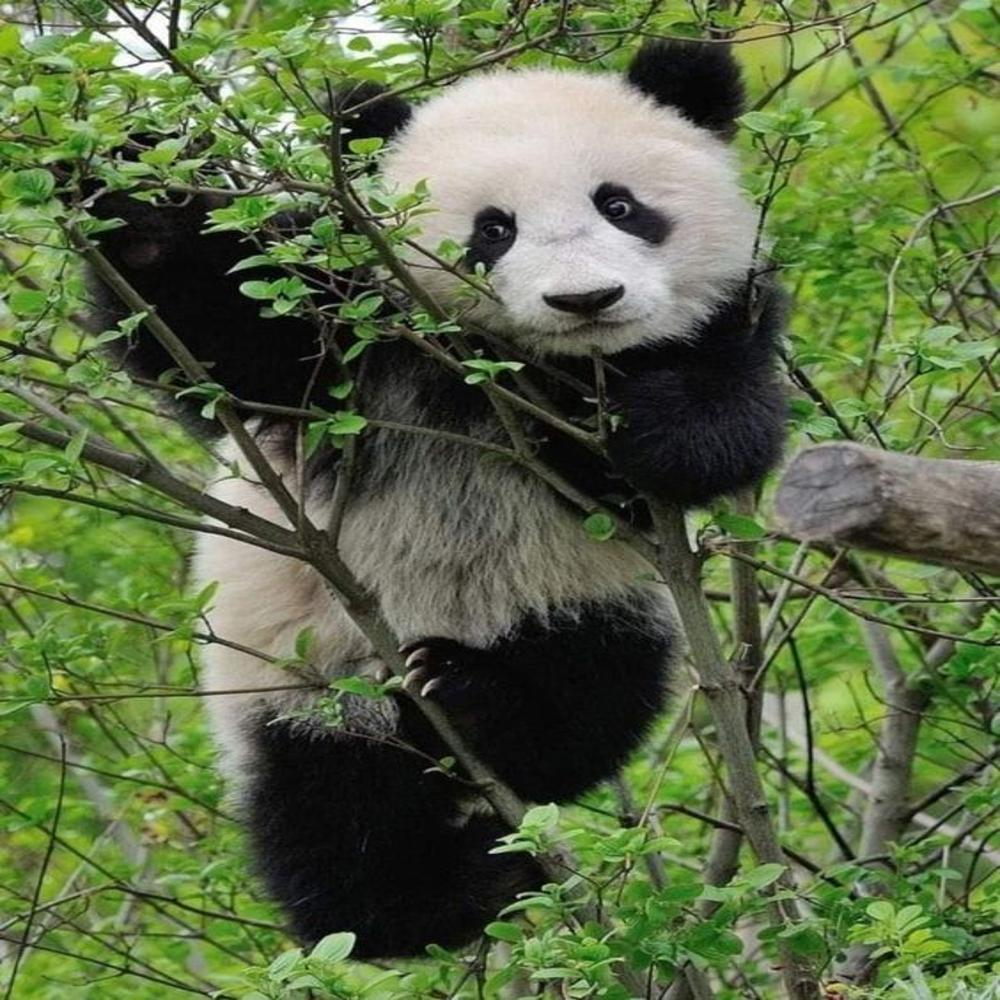panda: (64, 33, 791, 962)
